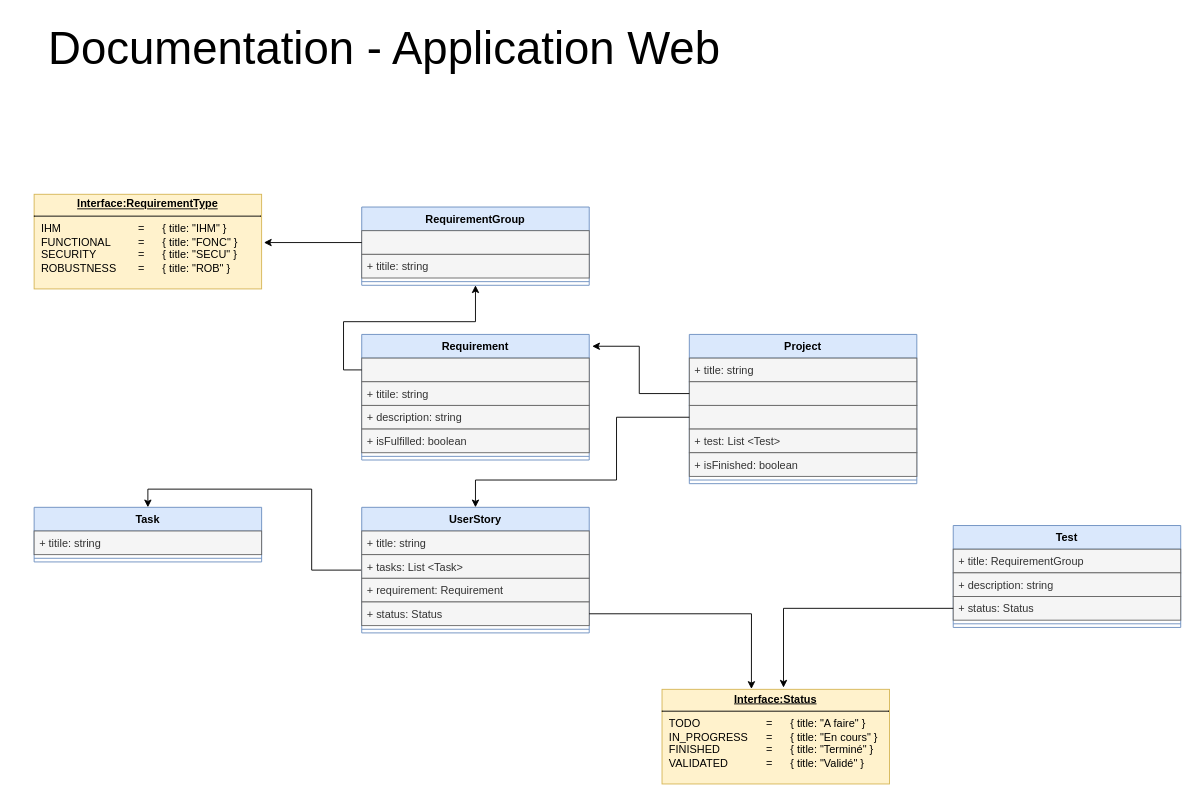
Image size: 1197x800. Some labels were removed from this diagram. Here are the shapes that lost their labels. From the top down, the centre of each, then its label:
At [475,242]: "+ type: RequirementGroup".
At [475,369]: "+ group: RequirementGroup".
At [802,393]: "+ requirements: List <Requirement>".
At [802,416]: "+ userStories: List <UserStory>".
